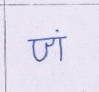anusvara: (56, 29, 59, 32)
